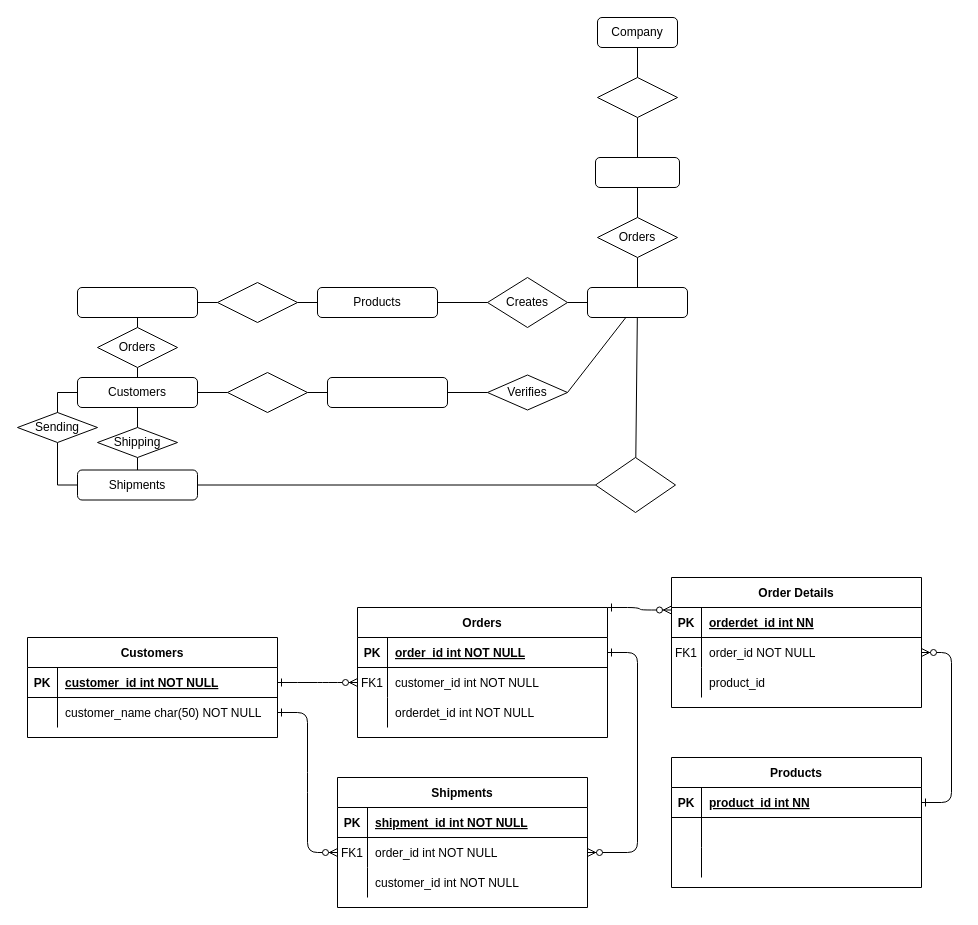
Image size: 978x925. Some labels were removed from this diagram. Here are the shapes that lost their labels. From the top down, the centre of each, then its label:
At point 637,97: "Produce".
At point 637,172: "Item".
At point 137,302: "Shopping Chart".
At point 257,302: "Add".
At point 637,302: "E-Commerce".
At point 267,392: "Checkout".
At point 387,392: "Payment".
At point 635,484: "Forward order".
